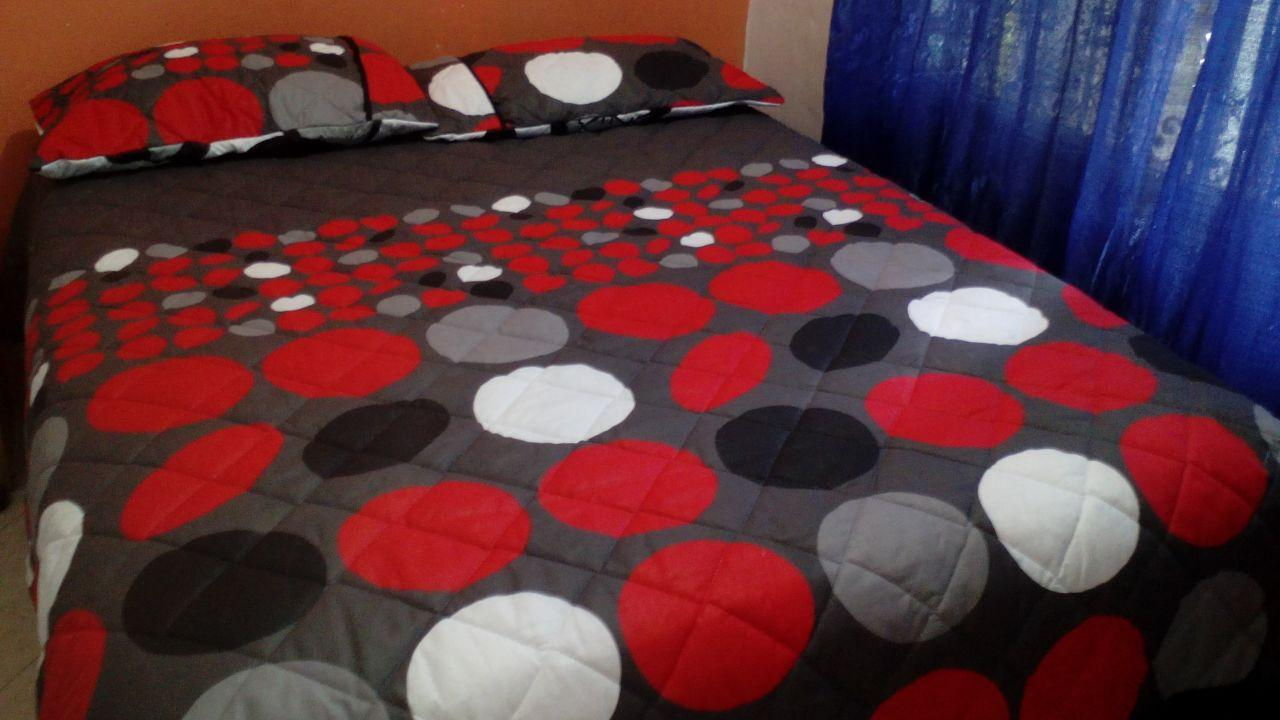bed: (0, 17, 1280, 720)
